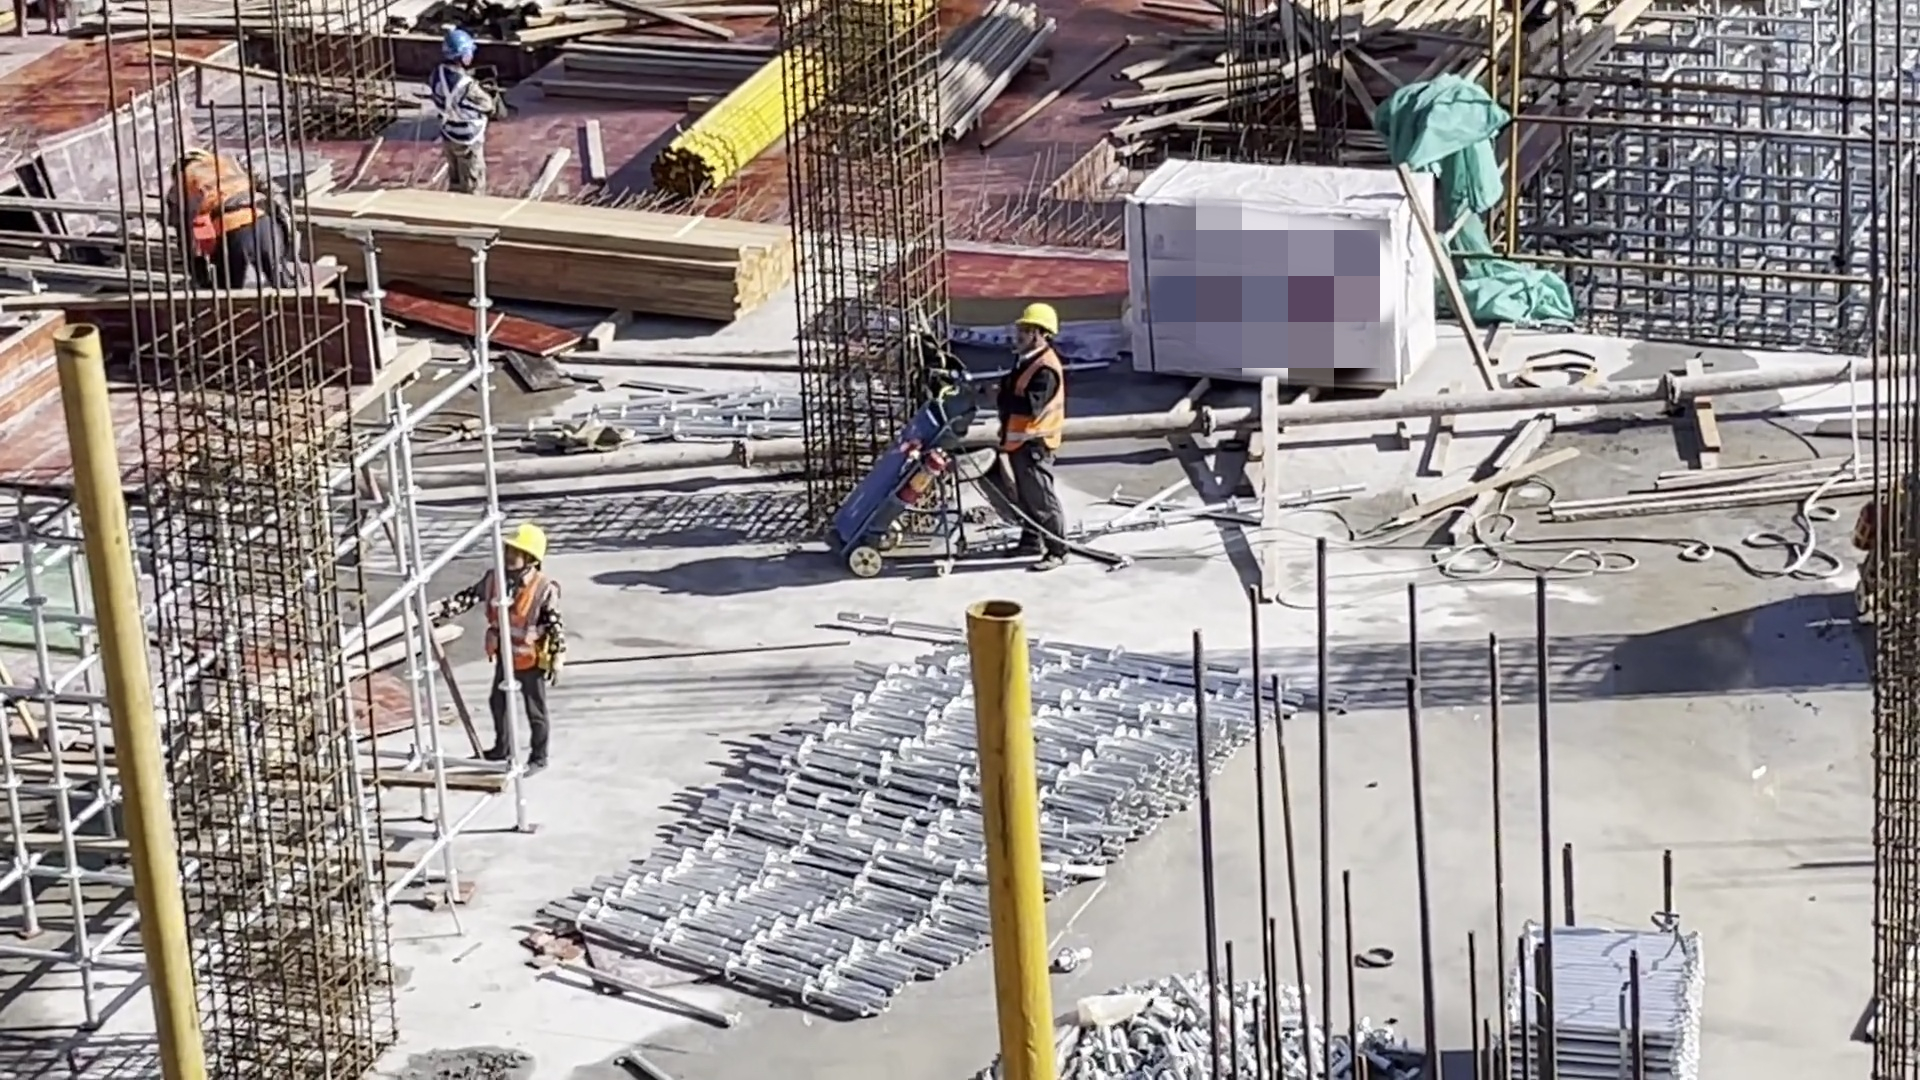helmet: (496, 523, 548, 560), (1014, 298, 1062, 339), (444, 32, 472, 61)
person: (421, 528, 567, 780), (1004, 294, 1084, 575), (156, 145, 307, 287), (441, 31, 498, 198)
vest: (487, 569, 558, 671), (180, 158, 267, 236), (1007, 349, 1062, 453), (437, 69, 489, 147)
